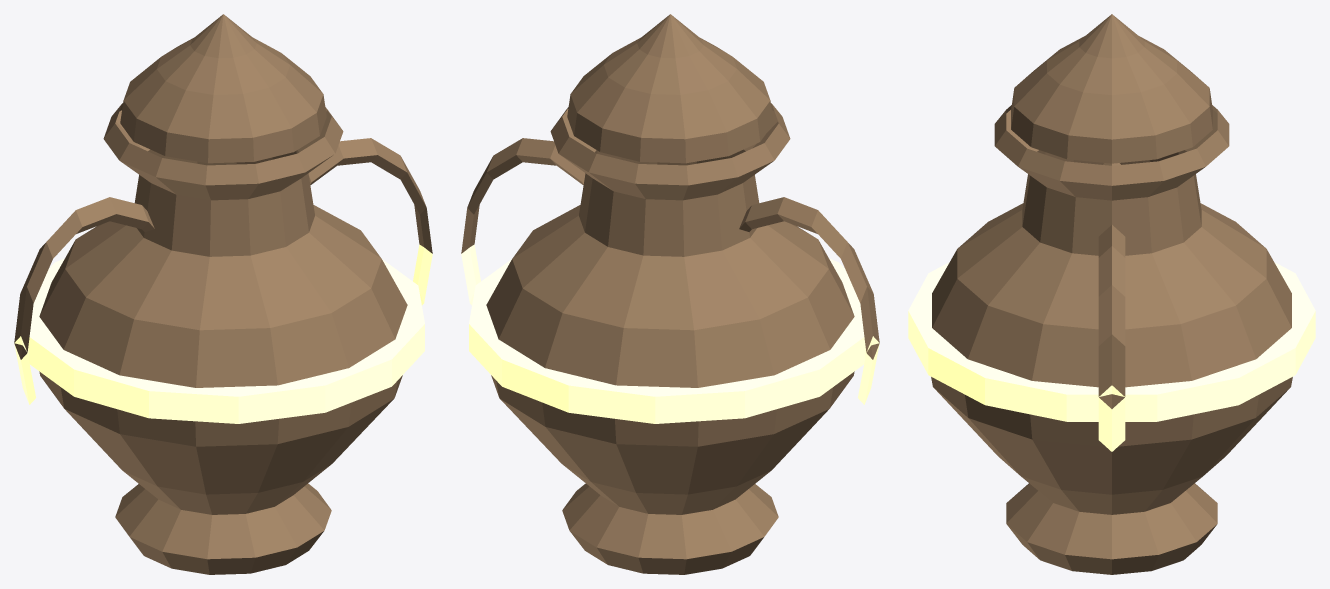
File: relic_urn.fbx
3 renders of one model, left to right at view 1: azimuth 30°, elevation 25°; view 2: azimuth 150°, elevation 25°; view 3: azimuth 270°, elevation 25°, orthographic.
Parts seen in each view (by area): view 1: RelicUrn; view 2: RelicUrn; view 3: RelicUrn.
Part boxes in pixels (x1,y1,x2,y2): RelicUrn: (14,14,432,574); RelicUrn: (461,14,879,574); RelicUrn: (908,14,1315,574).
Bounding box in the file's own units: 280 × 345 × 244.
